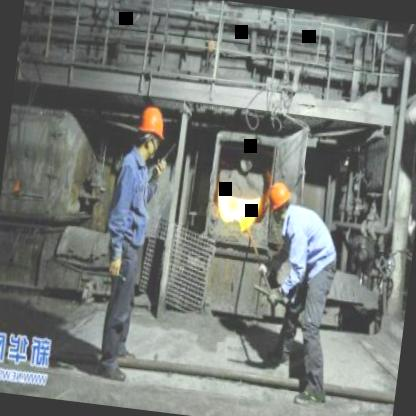helmet: (130, 100, 170, 168), (260, 180, 292, 220)
